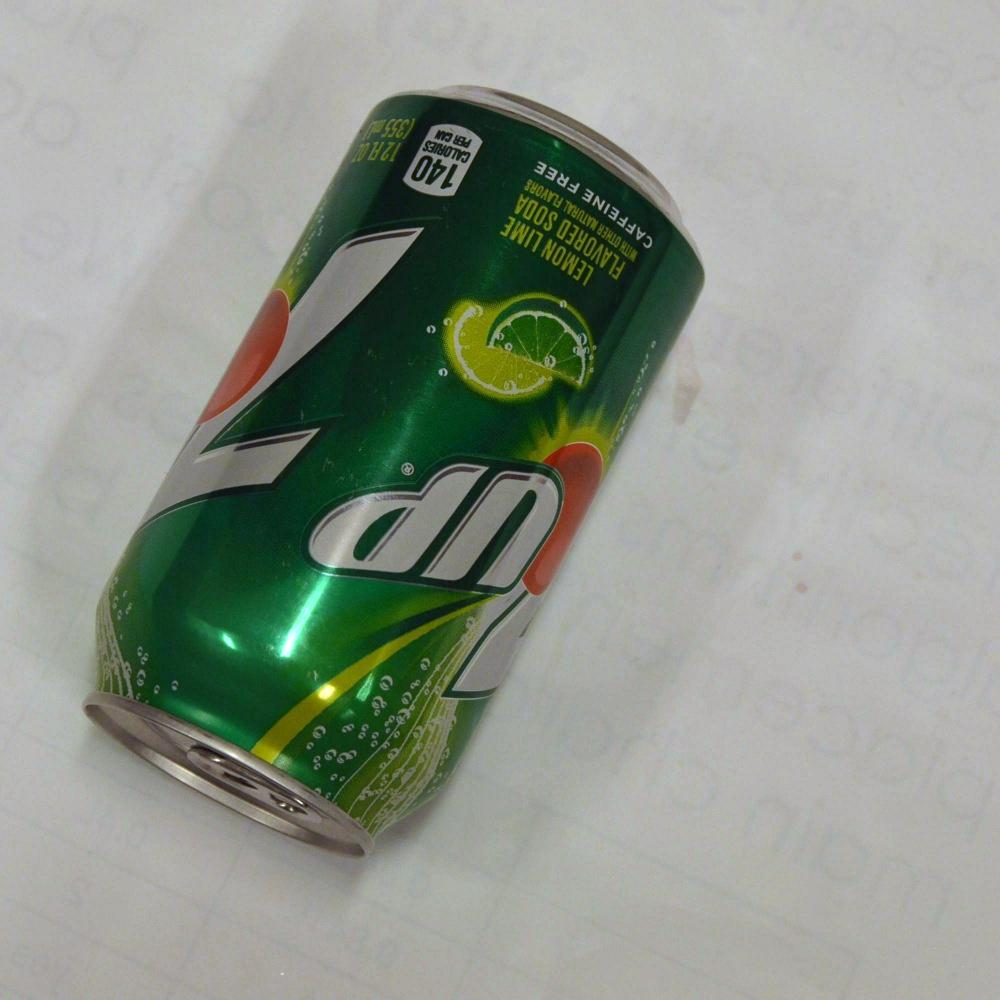Metal: (68, 38, 681, 918)
